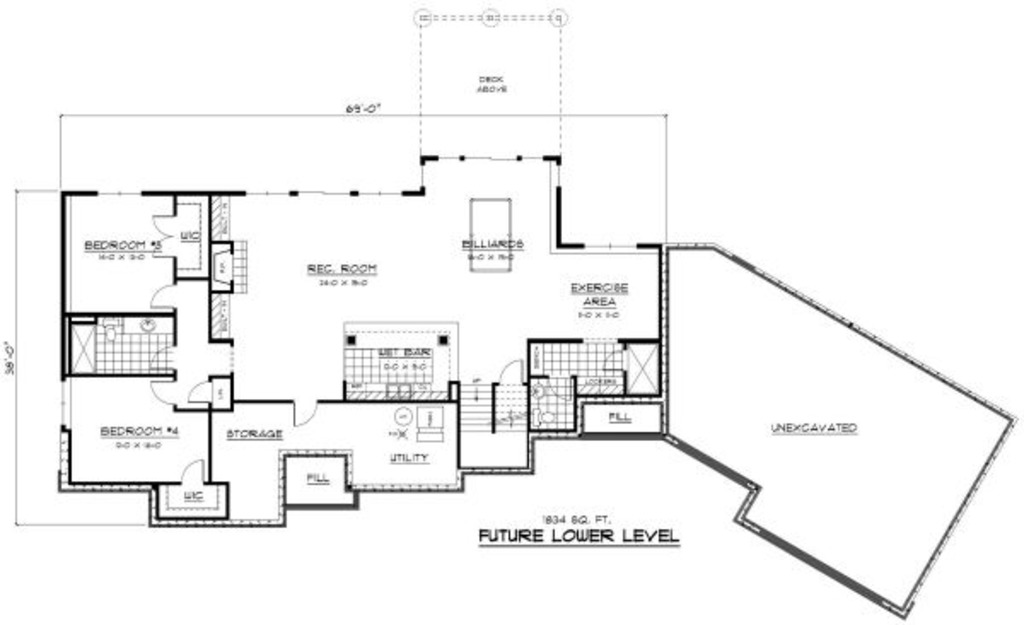door: (150, 214, 176, 260), (177, 458, 205, 486), (289, 397, 316, 426), (186, 380, 216, 406), (150, 378, 174, 408), (497, 359, 525, 384), (150, 285, 176, 310)
kitchen_bar: (341, 320, 460, 382)
stairs: (459, 382, 527, 476)
windows: (237, 185, 410, 201), (431, 150, 545, 165), (578, 238, 640, 255), (95, 185, 147, 204)
